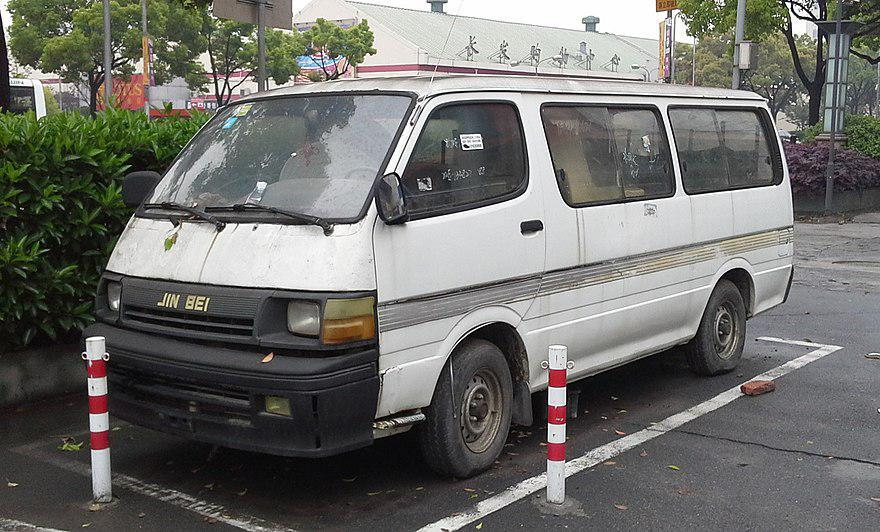van: (95, 73, 804, 437)
